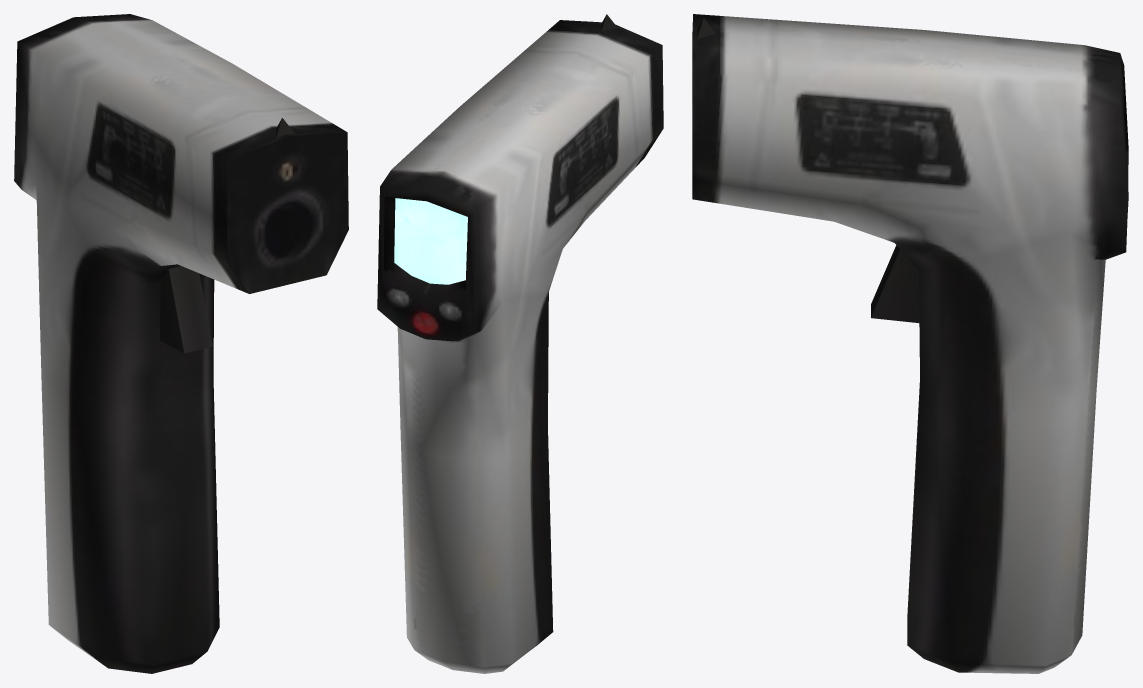
Rendered from Thermometer.fbx.
3 views of the same model, side by side, from view 1: azimuth 30°, elevation 25°; view 2: azimuth 150°, elevation 25°; view 3: azimuth 270°, elevation 25° (orthographic). The views are drawn at different scales.
Visible parts, largest first — view 1: Thermometer; view 2: Thermometer; view 3: Thermometer.
Part boxes in pixels (box(x1,y1,x2,y2)): Thermometer: box(14, 14, 348, 673); Thermometer: box(377, 14, 663, 673); Thermometer: box(692, 14, 1128, 673).
Bounding box in the file's own units: 3.22 × 15.53 × 9.69.
1 material, 1 textured.
